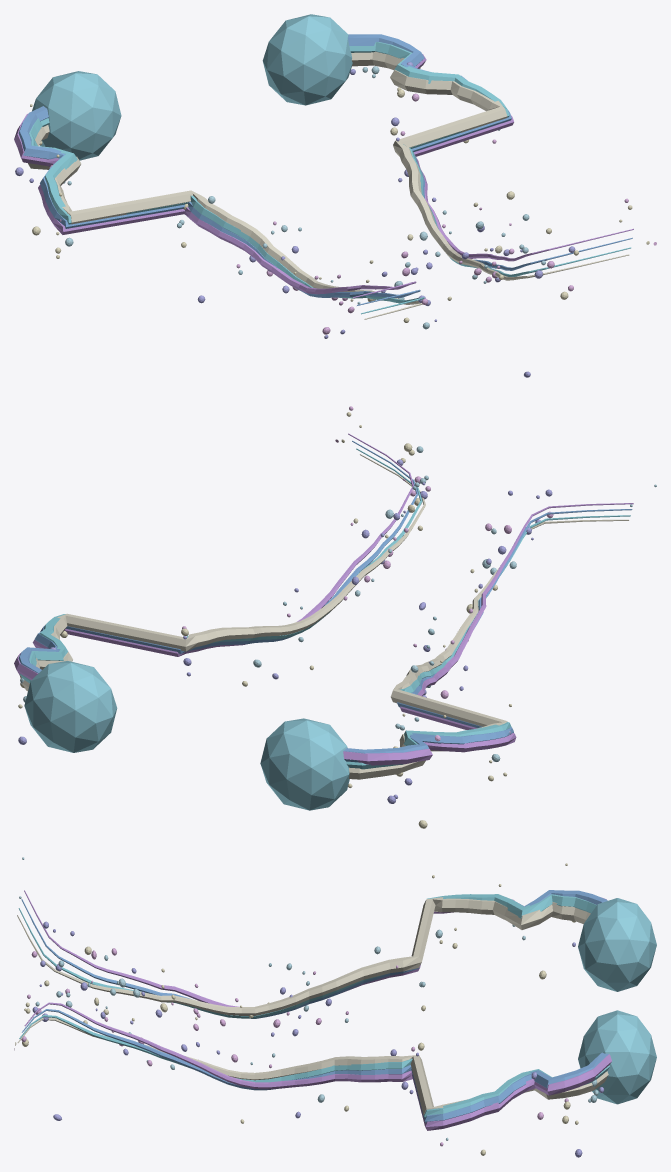
File: special-comet-cosmic.glb
3 renders of one model, top to bottom at view 1: azimuth 30°, elevation 25°; view 2: azimuth 150°, elevation 25°; view 3: azimuth 270°, elevation 25°, orthographic. The views are drawn at different scales.
Visible parts, largest first — view 1: special-comet-cosmic; view 2: special-comet-cosmic; view 3: special-comet-cosmic.
Boxes of the visible parts, bbox=[...] form: special-comet-cosmic: bbox=[14, 14, 656, 377]; special-comet-cosmic: bbox=[14, 406, 656, 828]; special-comet-cosmic: bbox=[14, 857, 656, 1157].
Bounding box in the file's own units: 0.4978 × 0.1944 × 0.6148.
